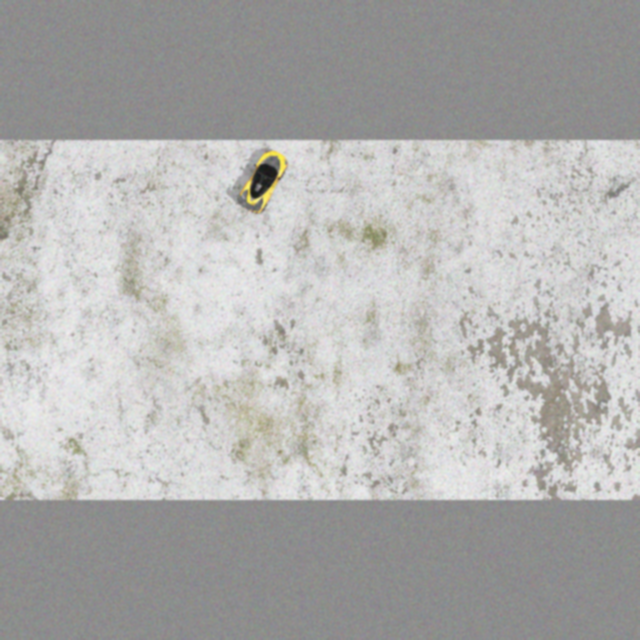car: (233, 141, 293, 217)
